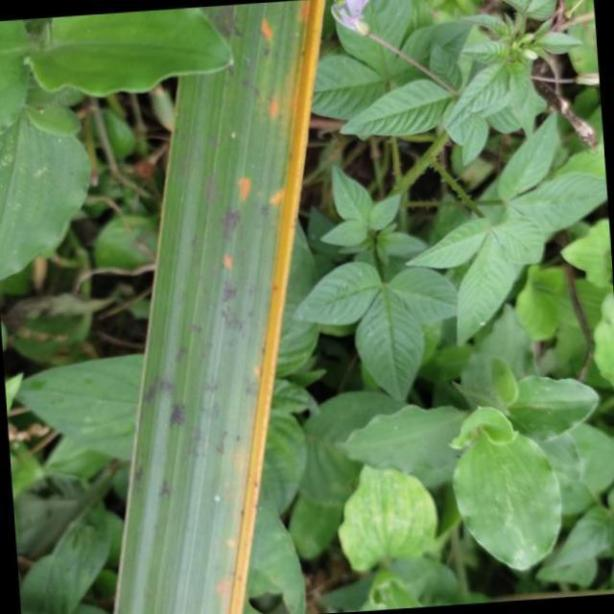Megnesium: (110, 0, 328, 614)
